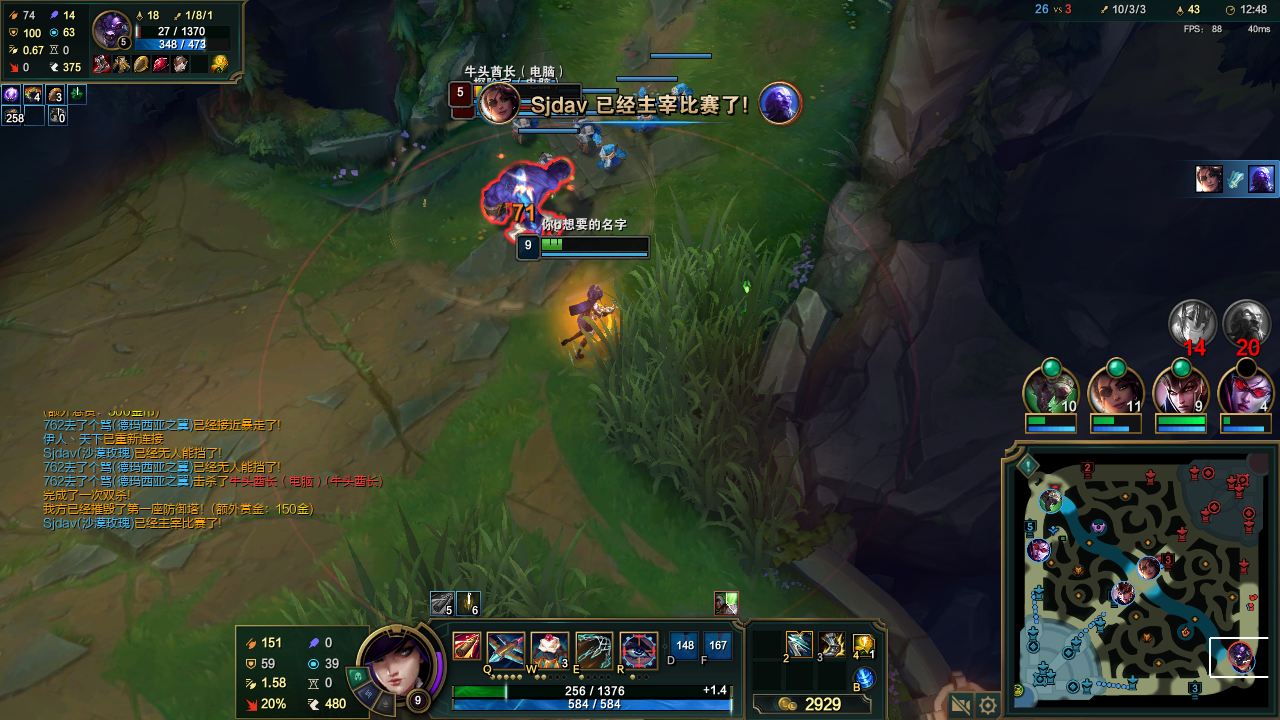WFXB: (591, 140, 627, 169), (574, 125, 609, 148), (666, 80, 697, 101), (513, 120, 538, 138), (640, 122, 659, 137)
